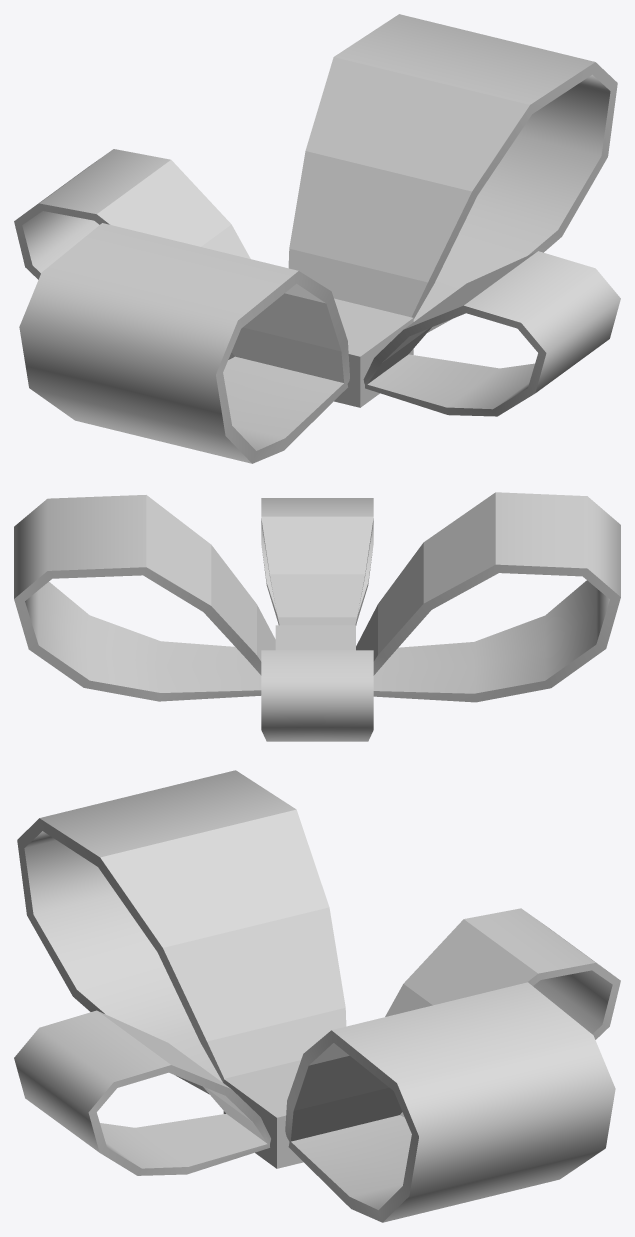
Rendered from M_Bow_06.FBX.
The picture shows the model from 3 angles, top to bottom: view 1: azimuth 30°, elevation 25°; view 2: azimuth 150°, elevation 25°; view 3: azimuth 270°, elevation 25°; orthographic projection. The views are drawn at different scales.
Visible parts, largest first — view 1: Box016; view 2: Box016; view 3: Box016.
Boxes of the visible parts, x1,y1,x2,y2 form: Box016: (14,14,620,463); Box016: (14,492,620,741); Box016: (14,770,620,1222).
Bounding box in the file's own units: 37.79 × 10.94 × 28.33.
